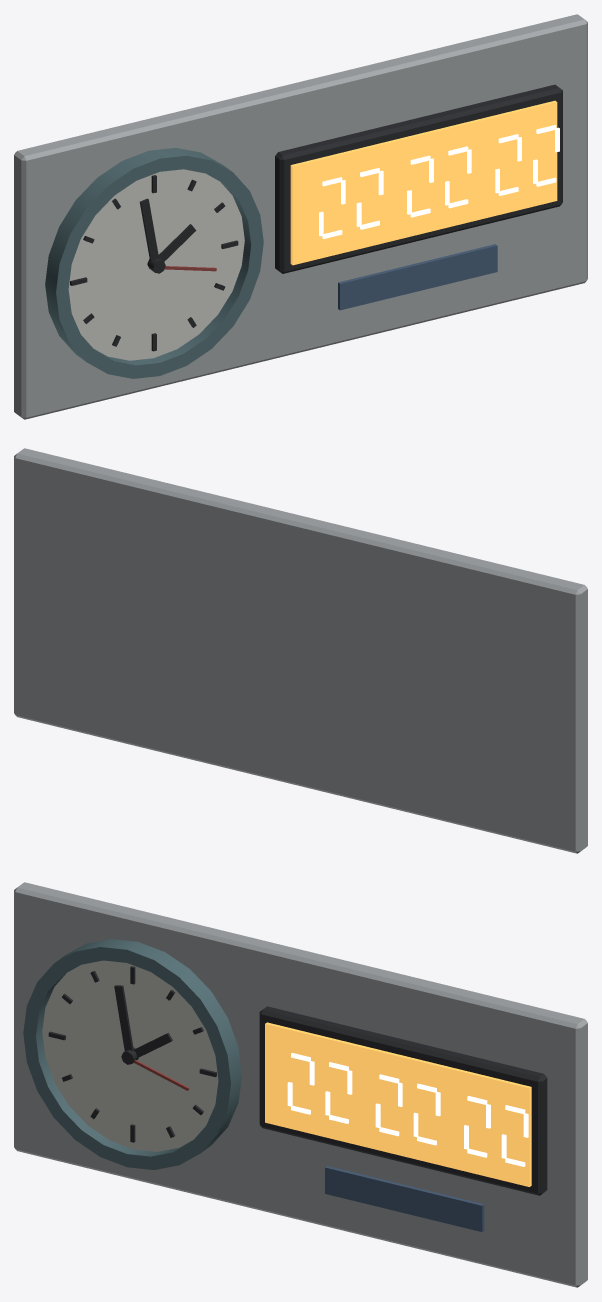
Rendered from astro_wall_clock_panel.fbx.
The picture shows the model from 3 angles, top to bottom: view 1: azimuth 30°, elevation 25°; view 2: azimuth 150°, elevation 25°; view 3: azimuth 330°, elevation 25°; orthographic projection.
Parts seen in each view (by area): view 1: WallClockPanel_Body; view 2: WallClockPanel_Body; view 3: WallClockPanel_Body.
Part boxes in pixels (x1,y1,x2,y2): WallClockPanel_Body: (14, 14, 587, 419); WallClockPanel_Body: (14, 448, 587, 853); WallClockPanel_Body: (14, 882, 587, 1287).
Bounding box in the file's own units: 180 × 80 × 12.
